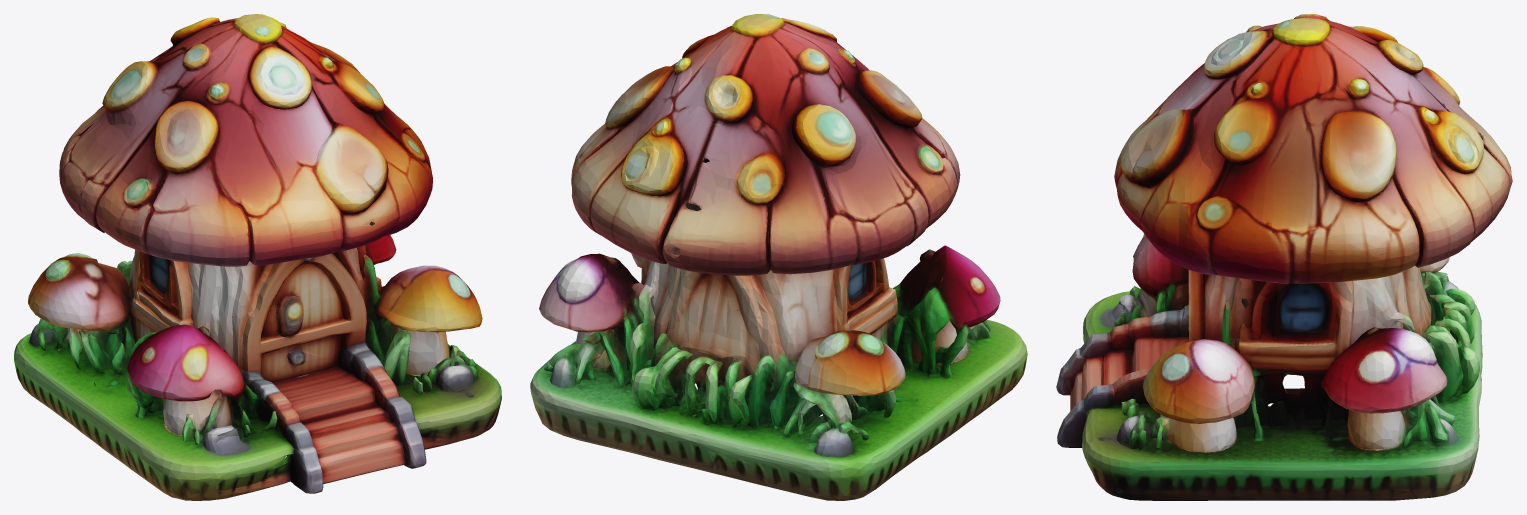
Rendered from crab_5.glb.
3 renders of one model, left to right at view 1: azimuth 30°, elevation 25°; view 2: azimuth 150°, elevation 25°; view 3: azimuth 270°, elevation 25°, orthographic. The views are drawn at different scales.
Parts seen in each view (by area): view 1: world; view 2: world; view 3: world.
Boxes of the visible parts, x1,y1,x2,y2 form: world: (14,14,501,500); world: (530,14,1027,500); world: (1056,14,1512,500).
Bounding box in the file's own units: 0.719 × 0.7452 × 0.7738.
Materials: 1 (1 with a texture image).
